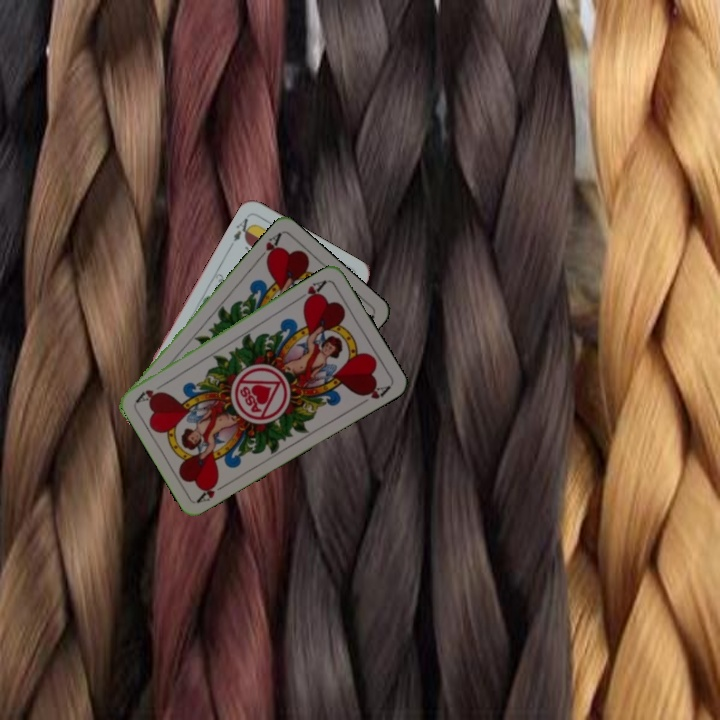EA: (229, 212, 256, 244)
HA: (293, 276, 330, 307), (253, 229, 284, 265), (193, 476, 231, 505)
